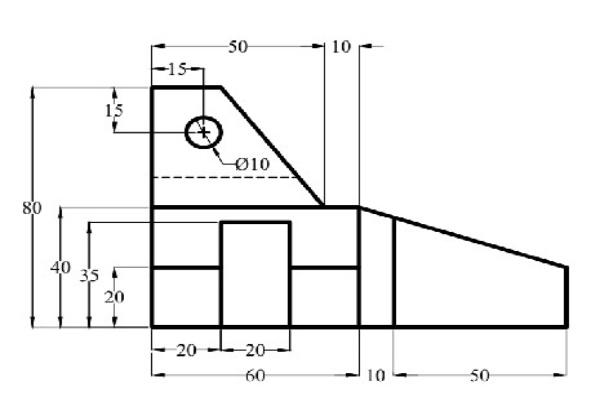dimensions: (232, 153, 272, 173), (327, 34, 356, 58), (466, 364, 495, 386), (100, 285, 129, 305), (16, 199, 46, 218), (241, 365, 269, 385), (175, 338, 200, 359), (242, 341, 268, 361), (46, 257, 73, 276), (364, 365, 391, 384), (166, 58, 190, 79), (101, 101, 129, 118), (76, 268, 104, 284), (226, 37, 251, 54)
